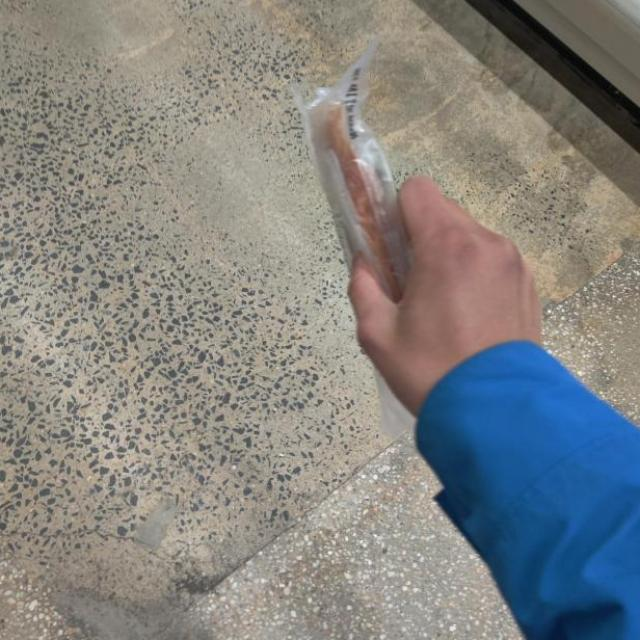Meat: (279, 56, 479, 471)
